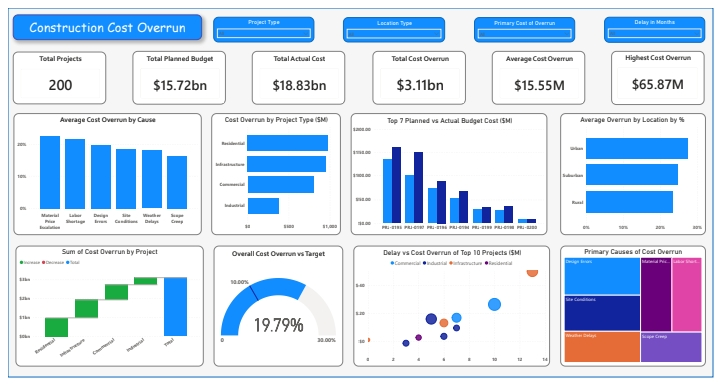

What the dashboard file says about the page in this screenshot:
{"tool":"powerbi","page":{"name":"Page 1","canvas":[2100,1100],"ordinal":0},"visuals":[{"type":"shape","box":[0,0,2100,1100],"z":0},{"type":"textbox","box":[15,20,562.5,75],"z":1000},{"type":"cardVisual","title":"Total Projects","fields":{"Data":["_kpi.Total Projects"]},"box":[15.4,130.5,277,156.9],"z":2000},{"type":"cardVisual","title":"Total Planned Budget","fields":{"Data":["_kpi.Total Planned Budget"]},"box":[371.8,129.5,277,159],"z":3000},{"type":"cardVisual","title":"Average Cost Overrun","fields":{"Data":["_kpi.Average Cost Overrun"]},"box":[1441,129.5,277,159],"z":4000},{"type":"cardVisual","title":"Total Actual Cost","fields":{"Data":["_kpi.Total actual Cost"]},"box":[728.2,129.5,277,159],"z":5000},{"type":"clusteredColumnChart","title":"Top 7 Planned vs Actual Budget Cost ($M)","fields":{"Category":["df_constr.Project_ID"],"Y":["Sum(df_constr.Planned_Budget_Millions)","Sum(df_constr.Actual_Cost_Millions)"]},"box":[1022.6,315.4,582,360],"z":6000},{"type":"barChart","title":"Cost Overrun by Project Type ($M)","fields":{"Category":["df_constr.Project_Type"],"Y":["Sum(df_constr.Cost_Overrun_Millions)"]},"box":[607.1,315.4,385,360],"z":7000},{"type":"scatterChart","title":"Delay vs Cost Overrun of Top 10 Projects ($M)","fields":{"Y":["Sum(df_constr.Cost_Overrun_Millions)"],"X":["Sum(df_constr.Delay_Months)"],"Series":["df_constr.Project_Type"],"Size":["Sum(df_constr.Planned_Budget_Millions)"],"Category":["df_constr.Project_ID"]},"box":[1030.8,707.5,582.5,360],"z":8000},{"type":"treemap","title":"Primary Causes of Cost Overrun","fields":{"Group":["df_constr.Primary_Cause_of_Overrun"],"Values":["Sum(df_constr.Cost_Overrun_Millions)"]},"box":[1645,707.5,432.5,360],"z":9000},{"type":"waterfallChart","title":"Sum of Cost Overrun by Project","fields":{"Category":["df_constr.Project_Type"],"Y":["_kpi.Total Cost Overrun"]},"box":[22.5,707.5,560,360],"z":10000},{"type":"barChart","title":"Average Overrun by Location by %","fields":{"Category":["df_constr.Location_Type"],"Y":["_kpi.Average Project Cost Overrun %"]},"box":[1645,315,432.5,360],"z":11000},{"type":"slicer","title":"Project Type","fields":{"Values":["df_constr.Project_Type"]},"box":[612.5,27.4,300,75],"z":12000},{"type":"slicer","title":"Location Type","fields":{"Values":["df_constr.Location_Type"]},"box":[1000.4,28,300,73.8],"z":13000},{"type":"slicer","title":"Primary Cost of Overrun","fields":{"Values":["df_constr.Primary_Cause_of_Overrun"]},"box":[1388.4,28,300,73.8],"z":14000},{"type":"slicer","title":"Delay in Months","fields":{"Values":["df_constr.Delay_Months"]},"box":[1776.3,26.8,300,76.3],"z":15000},{"type":"cardVisual","title":"Total Cost Overrun","fields":{"Data":["_kpi.Total Cost Overrun"]},"box":[1084.6,129.5,277,159],"z":16000},{"type":"gauge","title":"Overall Cost Overrun vs Target","fields":{"Y":["_kpi.Cost Overrun %"],"TargetValue":["_kpi.Target Overrun %"],"MinValue":["_kpi.Guage Minimum"],"MaxValue":["_kpi.Guage Maximum"]},"box":[614.2,707.5,385,360],"z":18000},{"type":"columnChart","title":"Average Cost Overrun by Cause","fields":{"Category":["df_constr.Primary_Cause_of_Overrun"],"Y":["_kpi.Average Project Cost Overrun %"]},"box":[16.7,315.4,560,360],"z":19000},{"type":"cardVisual","title":"Highest Cost Overrun","fields":{"Data":["_kpi.Highest Cost Overrun"]},"box":[1797.4,128.9,276.3,160.5],"z":20001}]}

Visuals, with their boxes in screenshot pixels (x1, y1, x2, y2), scaled from the page's 2100x1100 canvas onto the 720x384 screenshot:
shape: <box>0,0,719,383</box>
textbox: <box>5,7,198,33</box>
"Total Projects" cardVisual: <box>5,46,100,100</box>
"Total Planned Budget" cardVisual: <box>127,45,222,101</box>
"Average Cost Overrun" cardVisual: <box>494,45,589,101</box>
"Total Actual Cost" cardVisual: <box>250,45,345,101</box>
"Top 7 Planned vs Actual Budget Cost ($M)" clusteredColumnChart: <box>351,110,550,236</box>
"Cost Overrun by Project Type ($M)" barChart: <box>208,110,340,236</box>
"Delay vs Cost Overrun of Top 10 Projects ($M)" scatterChart: <box>353,247,553,373</box>
"Primary Causes of Cost Overrun" treemap: <box>564,247,712,373</box>
"Sum of Cost Overrun by Project" waterfallChart: <box>8,247,200,373</box>
"Average Overrun by Location by %" barChart: <box>564,110,712,236</box>
"Project Type" slicer: <box>210,10,313,36</box>
"Location Type" slicer: <box>343,10,446,36</box>
"Primary Cost of Overrun" slicer: <box>476,10,579,36</box>
"Delay in Months" slicer: <box>609,9,712,36</box>
"Total Cost Overrun" cardVisual: <box>372,45,467,101</box>
"Overall Cost Overrun vs Target" gauge: <box>211,247,343,373</box>
"Average Cost Overrun by Cause" columnChart: <box>6,110,198,236</box>
"Highest Cost Overrun" cardVisual: <box>616,45,711,101</box>
